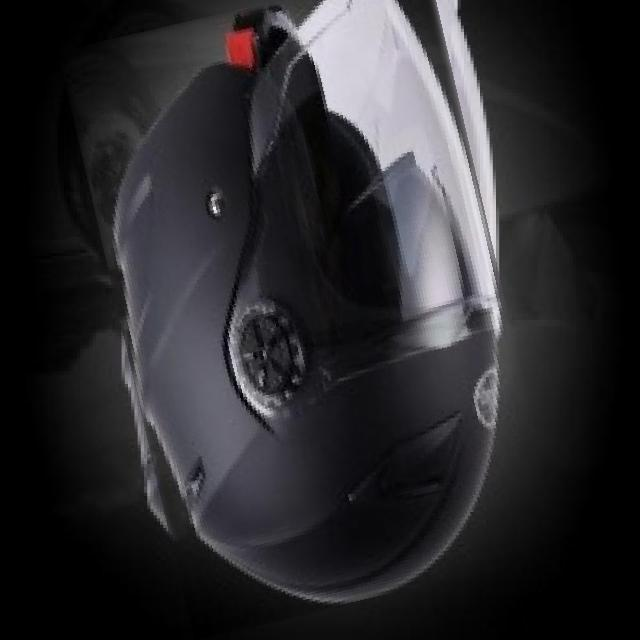helmet: (90, 0, 533, 625)
